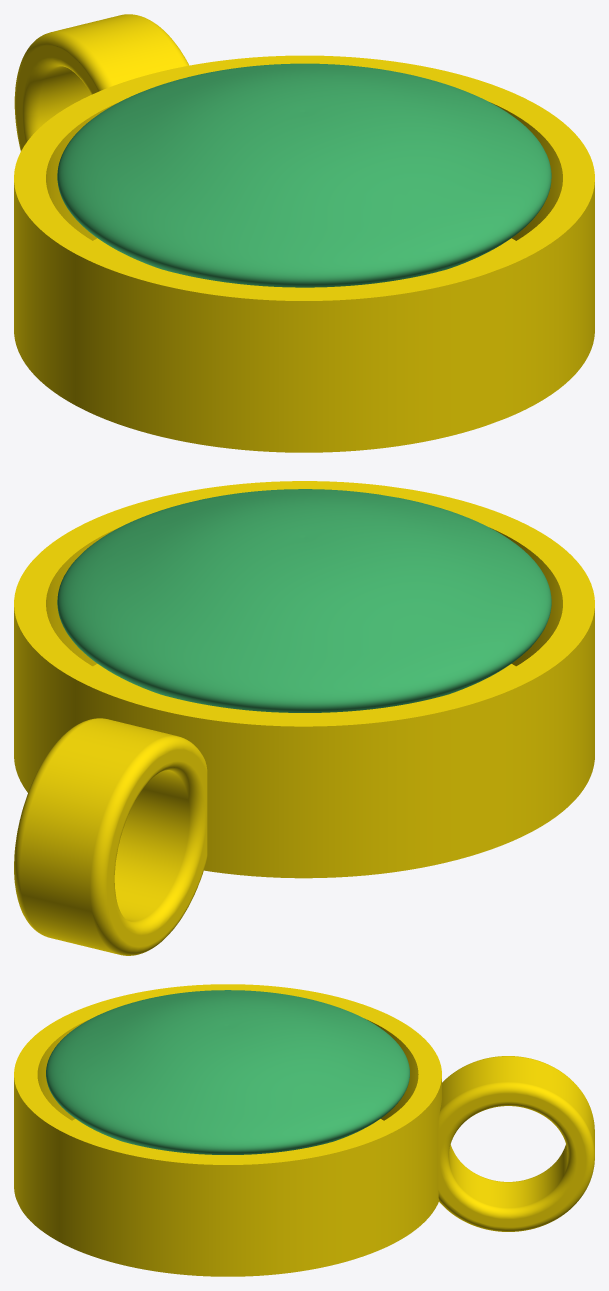
The model's file is pendant-circle.glb.
3 renders of one model, top to bottom at view 1: azimuth 30°, elevation 25°; view 2: azimuth 150°, elevation 25°; view 3: azimuth 270°, elevation 25°, orthographic. The views are drawn at different scales.
Bounding box in the file's own units: 0.01 × 0.00497 × 0.0136.
